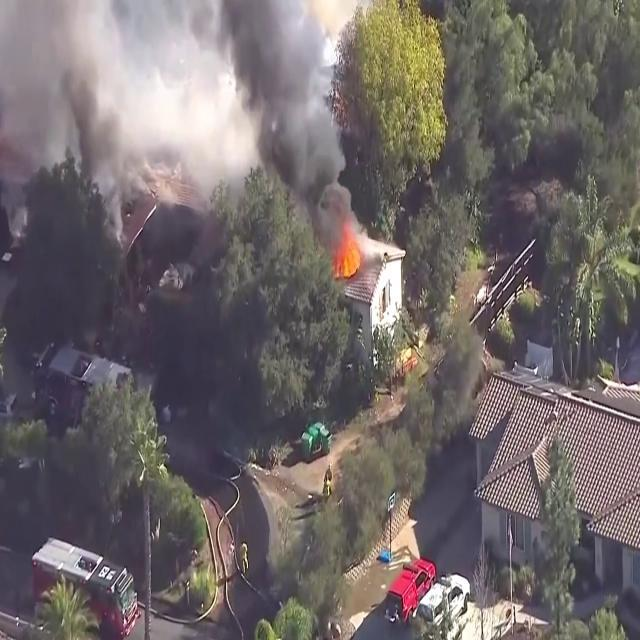Fire: (336, 227, 362, 281)
Smoke: (1, 0, 359, 205), (212, 0, 362, 231)
